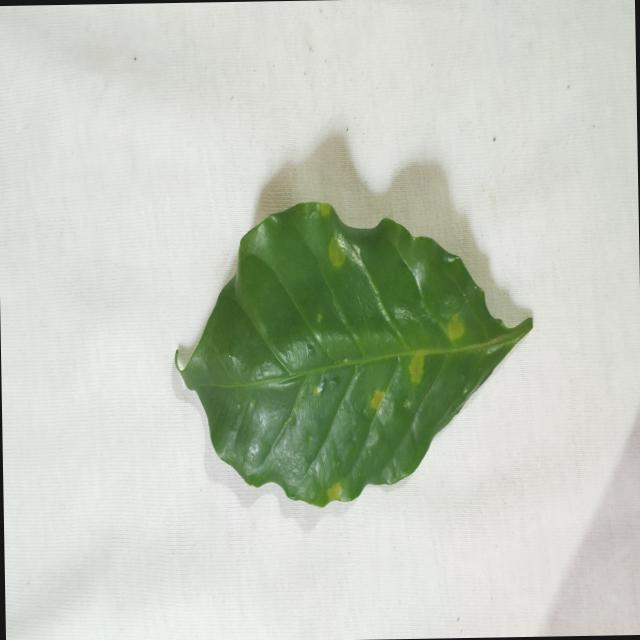KaratDaunKopi: (328, 237, 345, 267), (408, 355, 424, 384), (447, 316, 464, 342), (370, 390, 385, 410), (327, 482, 340, 500), (319, 202, 331, 216)
